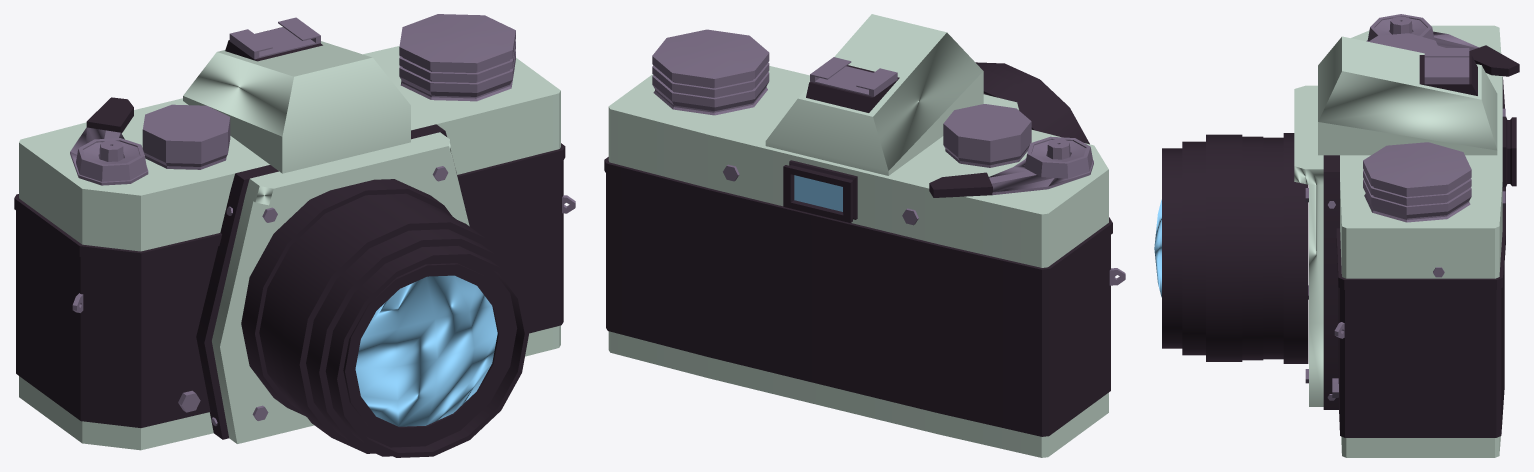
The model's file is survival-game-prop-asset-pack-419ed2.glb.
The picture shows the model from 3 angles, left to right: view 1: azimuth 30°, elevation 25°; view 2: azimuth 150°, elevation 25°; view 3: azimuth 270°, elevation 25°; orthographic projection. The views are drawn at different scales.
Parts seen in each view (by area): view 1: PropMesh; view 2: PropMesh; view 3: PropMesh.
Part boxes in pixels (box(x1,y1,x2,y2)): PropMesh: box(14, 14, 575, 457); PropMesh: box(604, 14, 1125, 457); PropMesh: box(1154, 14, 1519, 457).
Bounding box in the file's own units: 0.25 × 0.1658 × 0.1812.
Materials: 1 (1 with a texture image).
